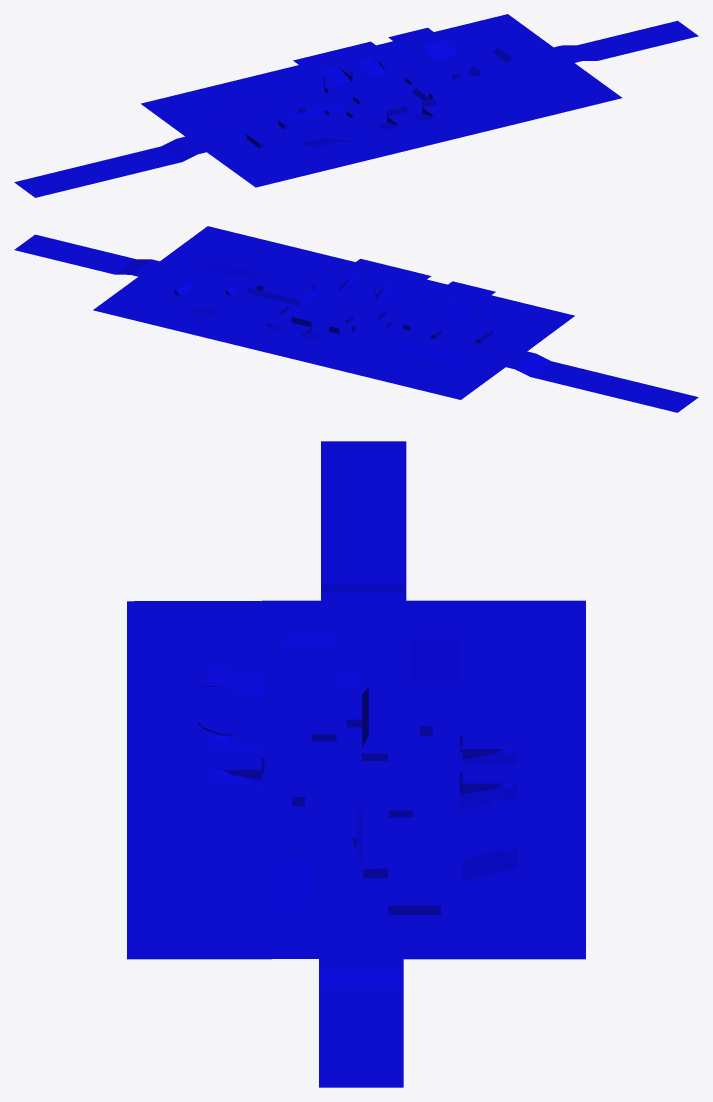
File: gltf__Models__map__Village__cityHall__cityHall_collision.glb
3 views of the same model, one above another, from view 1: azimuth 30°, elevation 25°; view 2: azimuth 150°, elevation 25°; view 3: azimuth 270°, elevation 25° (orthographic). The views are drawn at different scales.
Visible parts, largest first — view 1: cityHall_mergedCollision; view 2: cityHall_mergedCollision; view 3: cityHall_mergedCollision.
Part boxes in pixels (<box>): cityHall_mergedCollision: <box>14,14,698,197</box>; cityHall_mergedCollision: <box>14,226,698,412</box>; cityHall_mergedCollision: <box>127,441,585,1087</box>.
Size of the model in its own units: 157 by 8.56 by 47.07.
